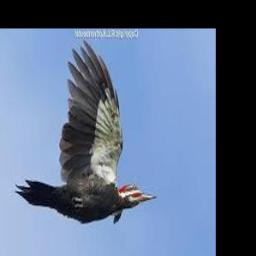Woodpecker: (15, 40, 158, 222)
